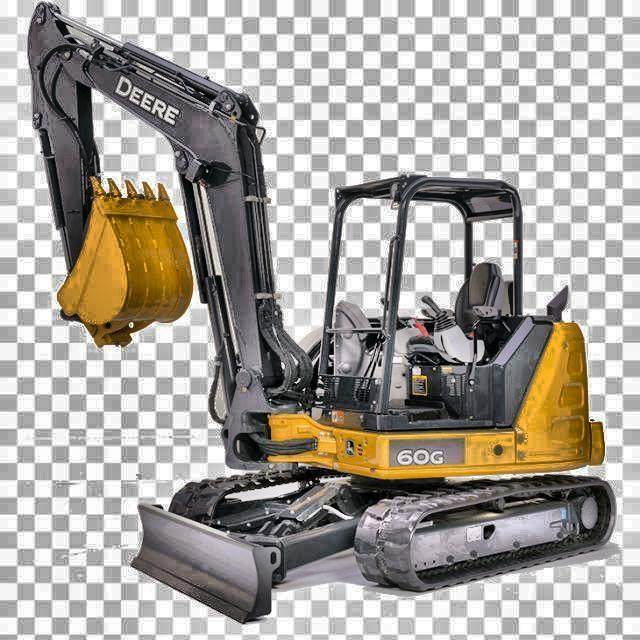excavator: (24, 0, 620, 626)
